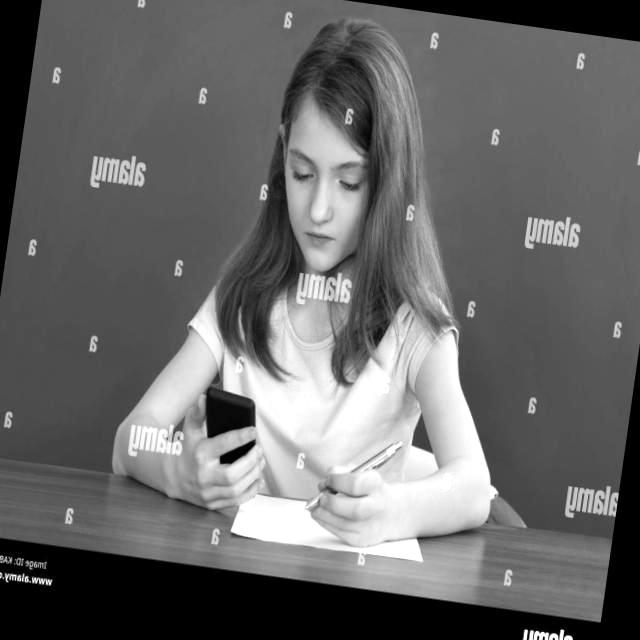phone: (304, 428, 404, 524), (197, 386, 263, 468)
